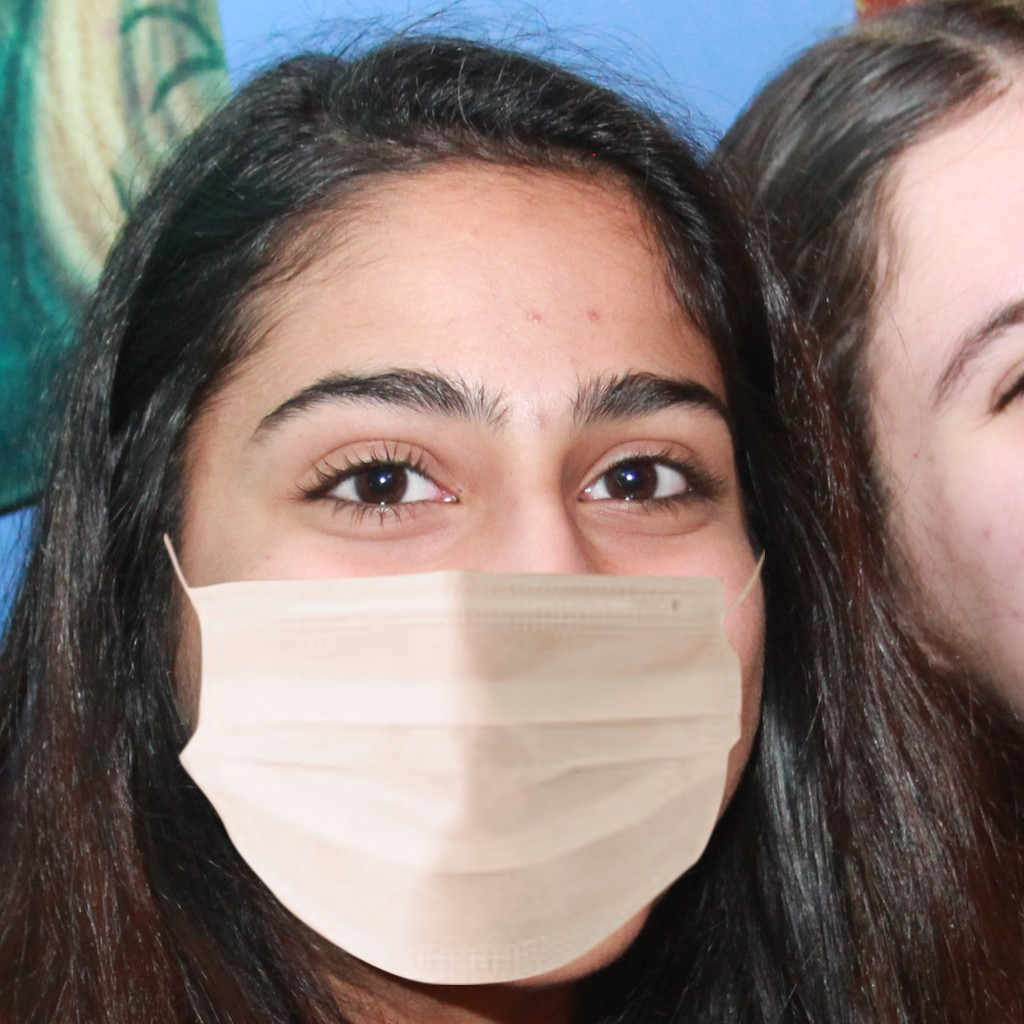con_mascara: (149, 113, 771, 988)
